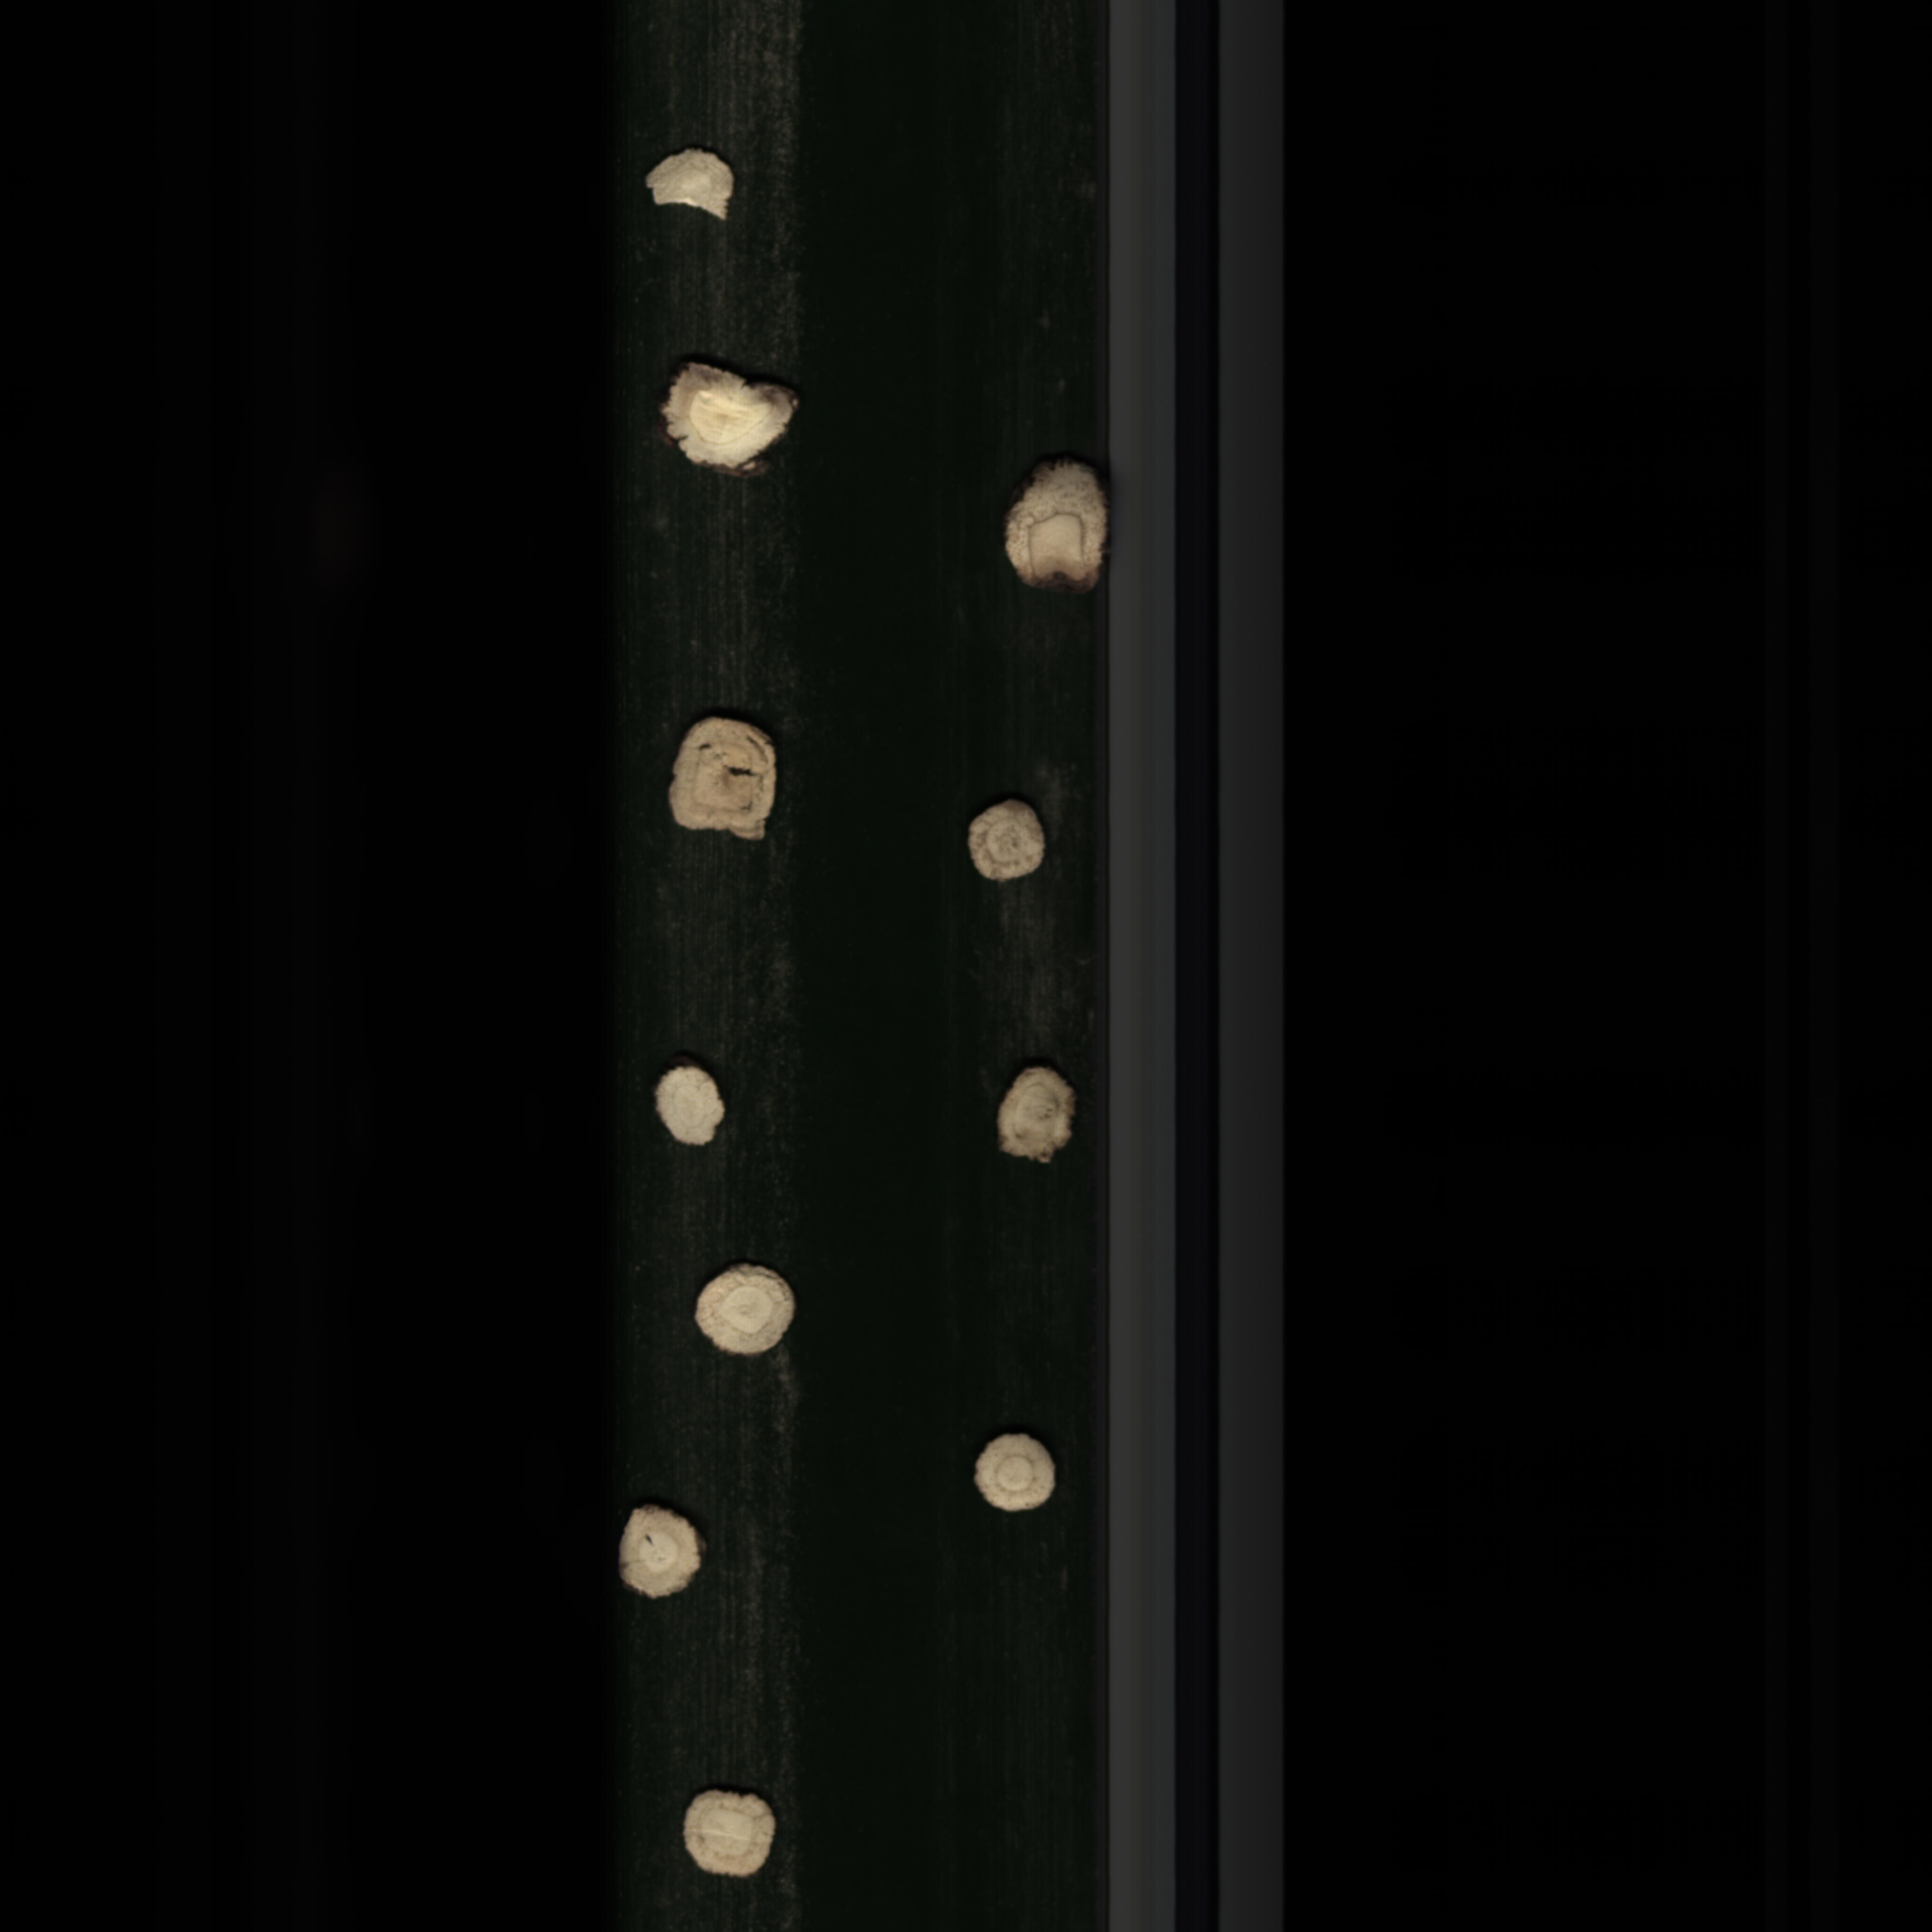debris: (639, 140, 745, 235)
distortion: (1000, 453, 1115, 596)
hole: (651, 708, 803, 860), (607, 1499, 718, 1601)
